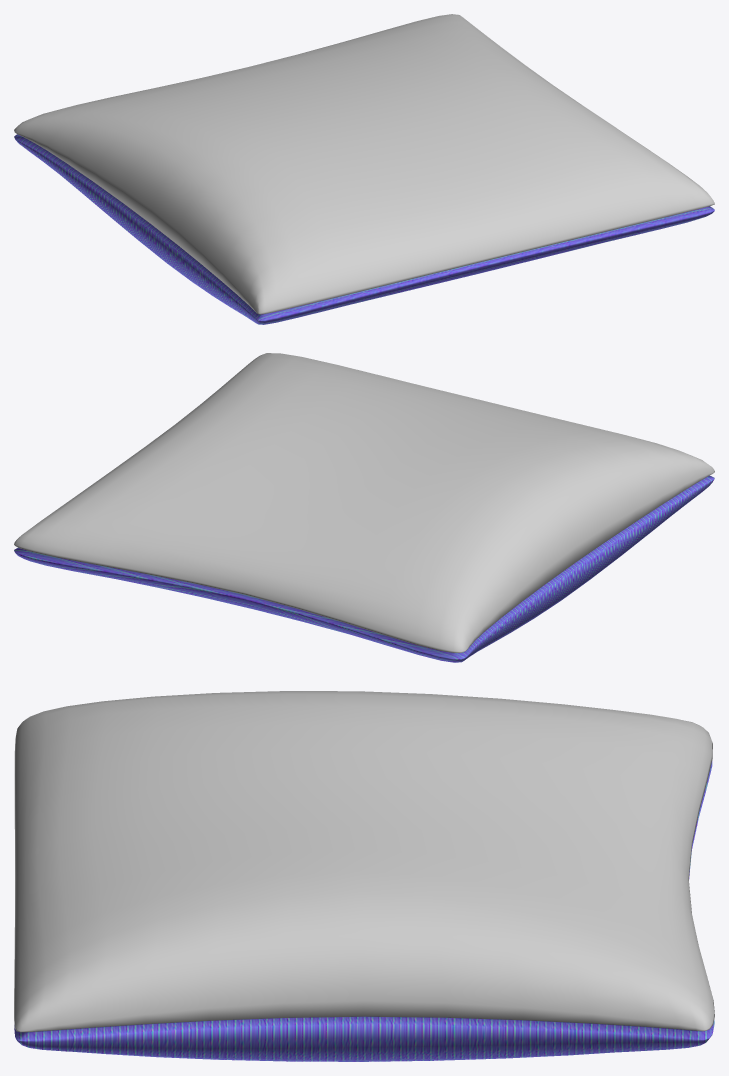
File: Tradition Cushion_06.fbx
3 views of the same model, one above another, from view 1: azimuth 30°, elevation 25°; view 2: azimuth 150°, elevation 25°; view 3: azimuth 270°, elevation 25° (orthographic). The views are drawn at different scales.
Visible parts, largest first — view 1: Tradition Cushion_06; view 2: Tradition Cushion_06; view 3: Tradition Cushion_06.
Part boxes in pixels (x1,y1,x2,y2): Tradition Cushion_06: [14, 14, 714, 324]; Tradition Cushion_06: [14, 353, 714, 662]; Tradition Cushion_06: [14, 691, 714, 1061].
Size of the model in its own units: 464 by 114 by 451.
